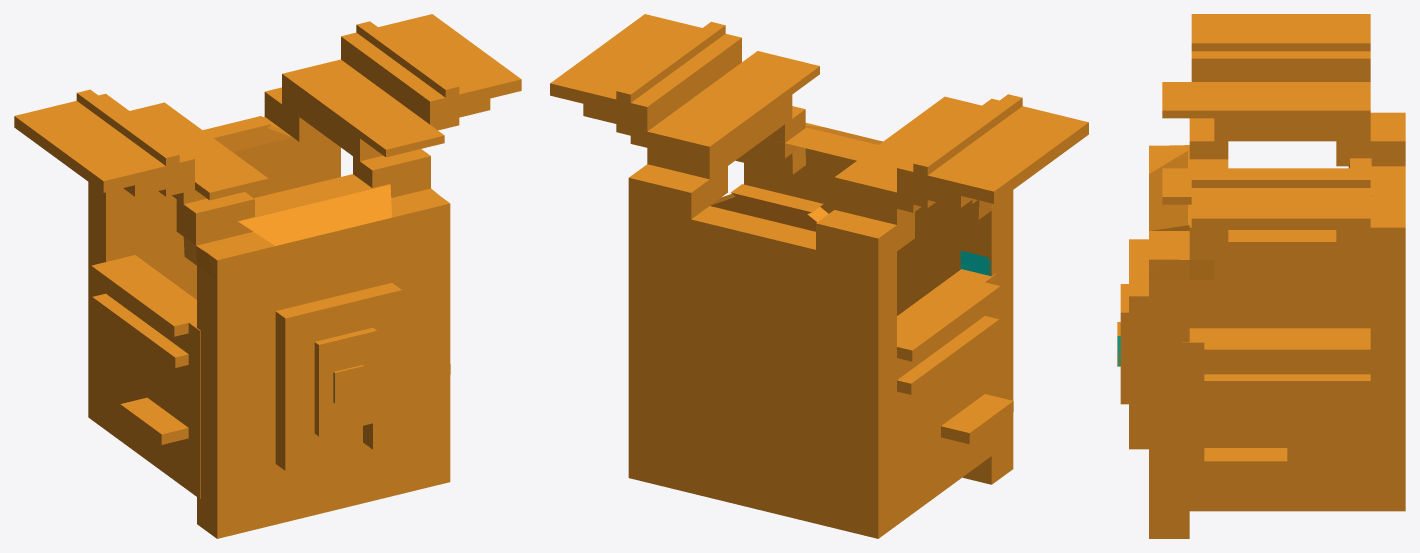
File: ArmorfIRE.fbx
3 views of the same model, side by side, from view 1: azimuth 30°, elevation 25°; view 2: azimuth 150°, elevation 25°; view 3: azimuth 270°, elevation 25° (orthographic). The views are drawn at different scales.
Visible parts, largest first — view 1: Cube; view 2: Cube; view 3: Cube.
Boxes of the visible parts, x1=… form: Cube: x1=14, y1=14, x2=521, y2=538; Cube: x1=550, y1=14, x2=1088, y2=538; Cube: x1=1117, y1=14, x2=1405, y2=538.
Size of the model in its own units: 71.69 by 61.07 by 42.68.
